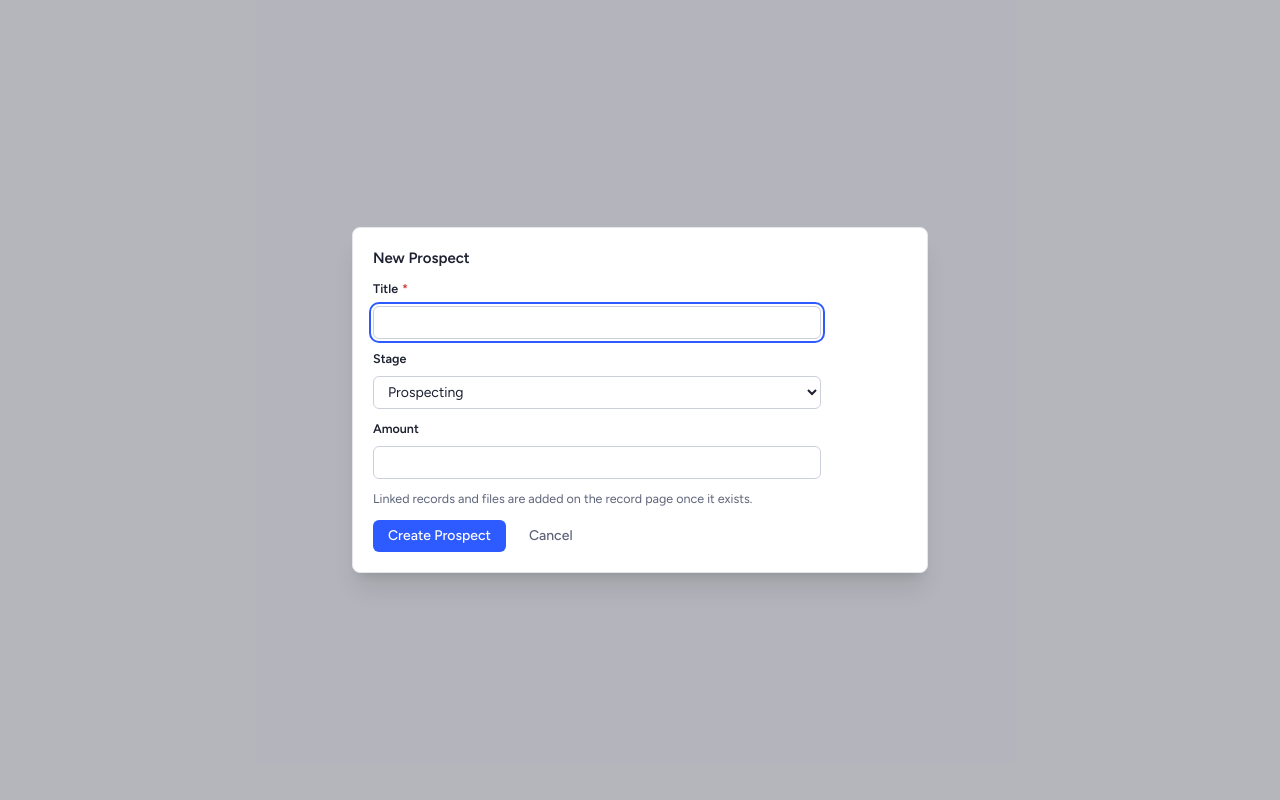
Scenario: NewRecordDialog: the required-field pre-flight › reports a missing required field beside it and sends no request at all
What coordinates should you click on to do the following:
click the button "Create Prospect"
I would click on:
 (439, 536)
Its box is [373,520,506,552].
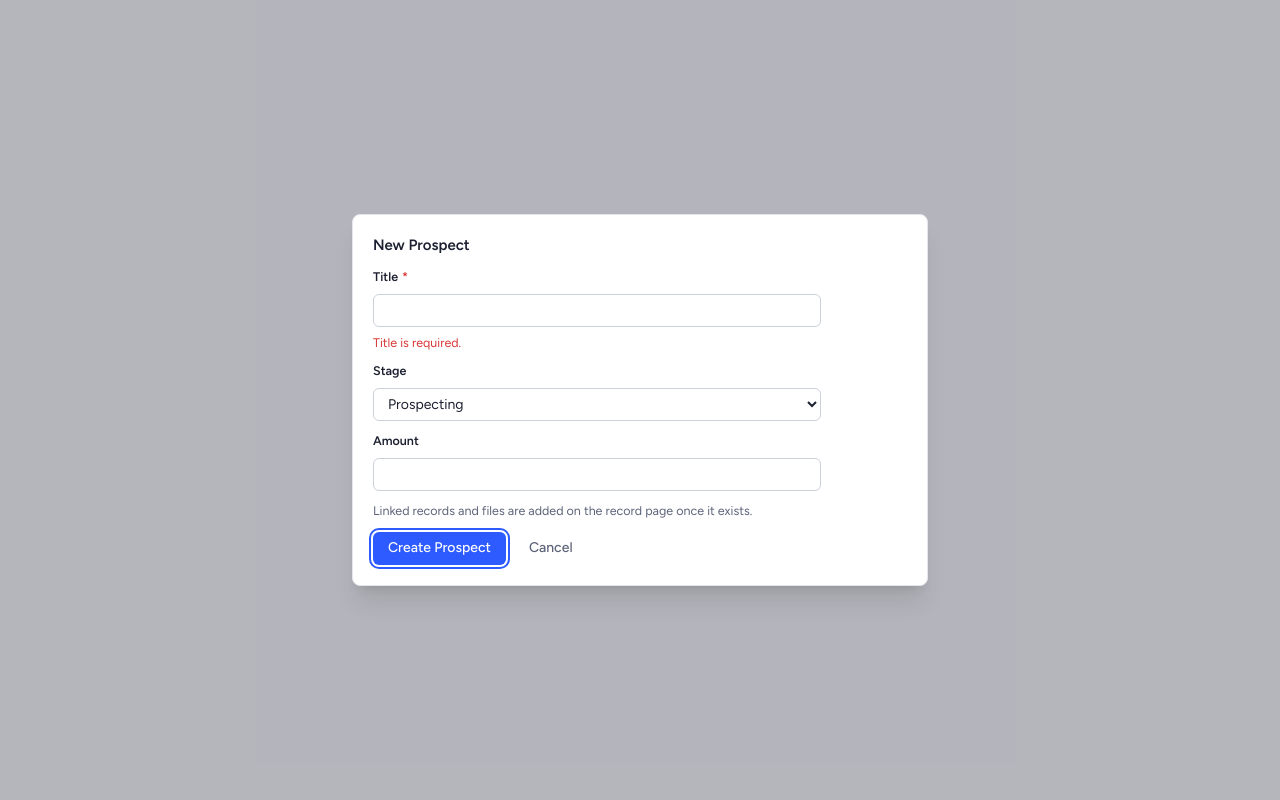
Check: the message reads "Title is required.", box [373,335,461,350]
